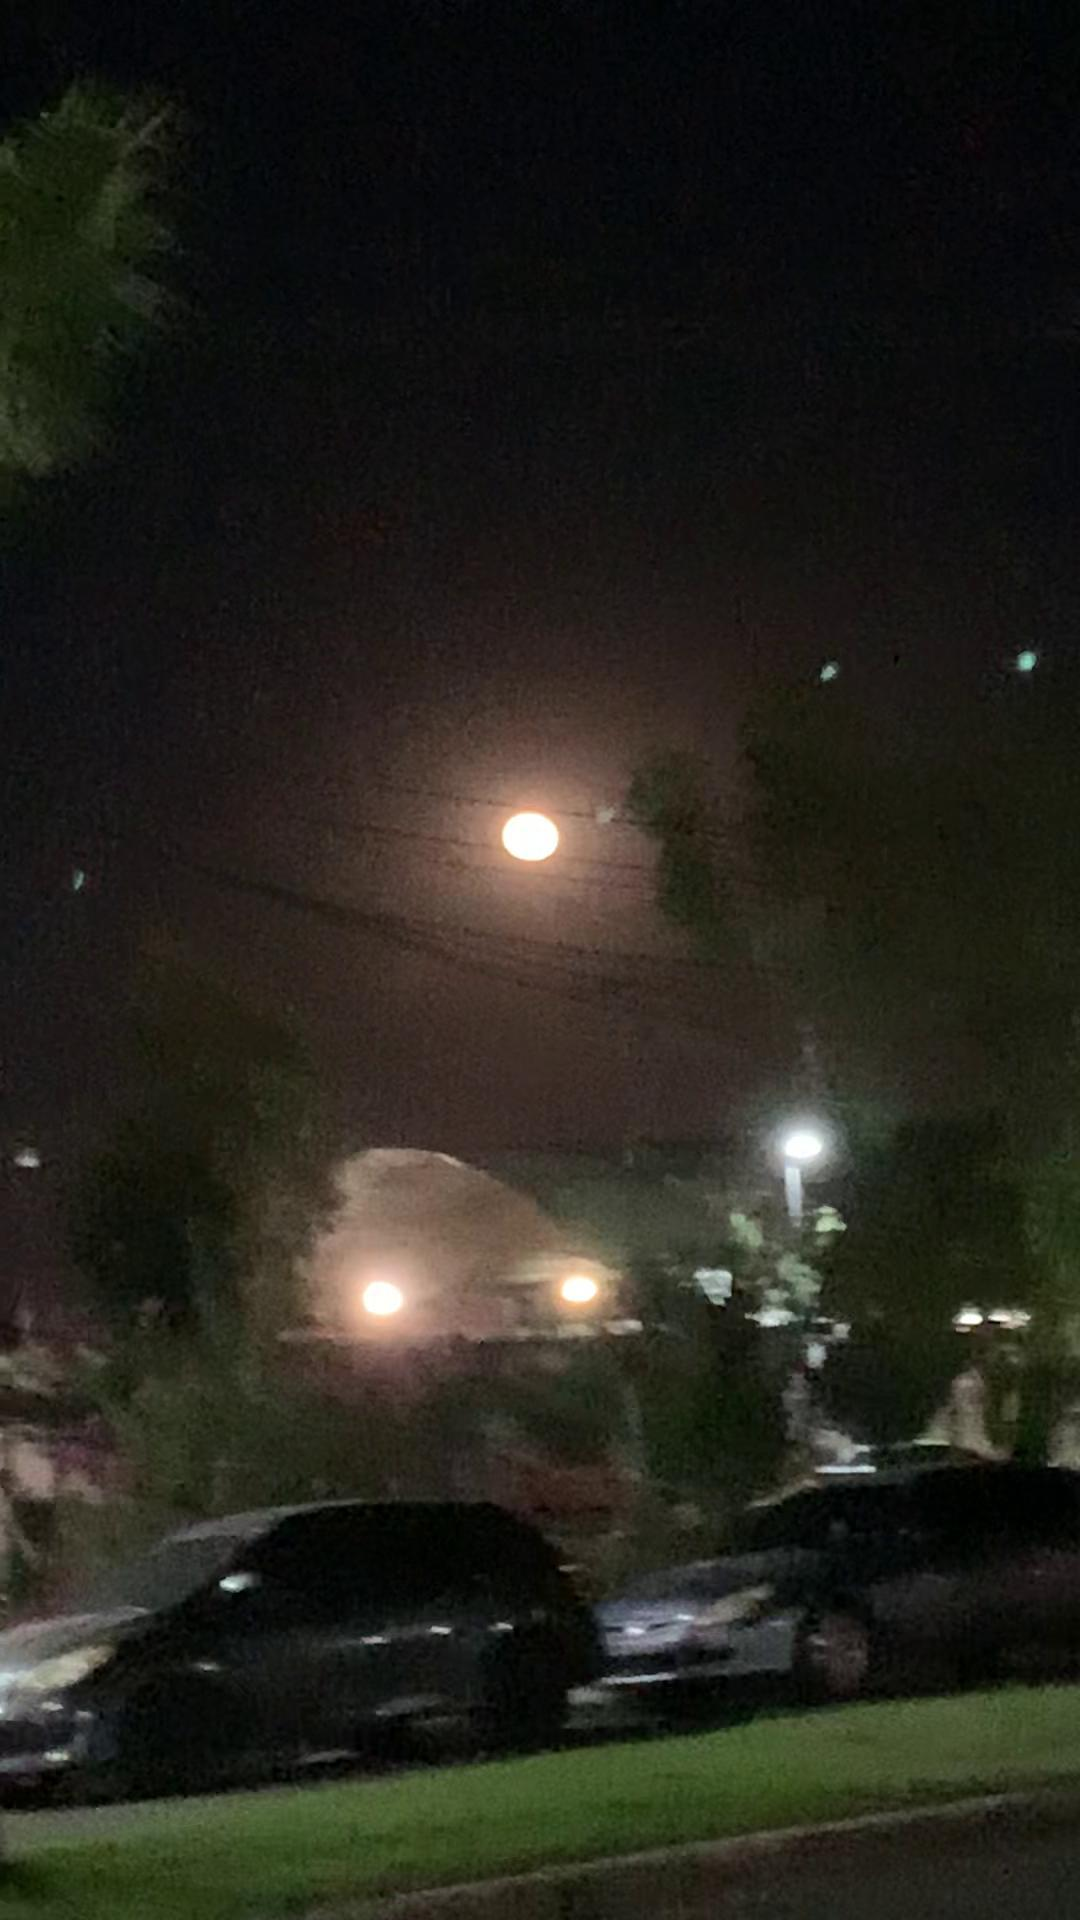moon: (495, 790, 587, 887)
